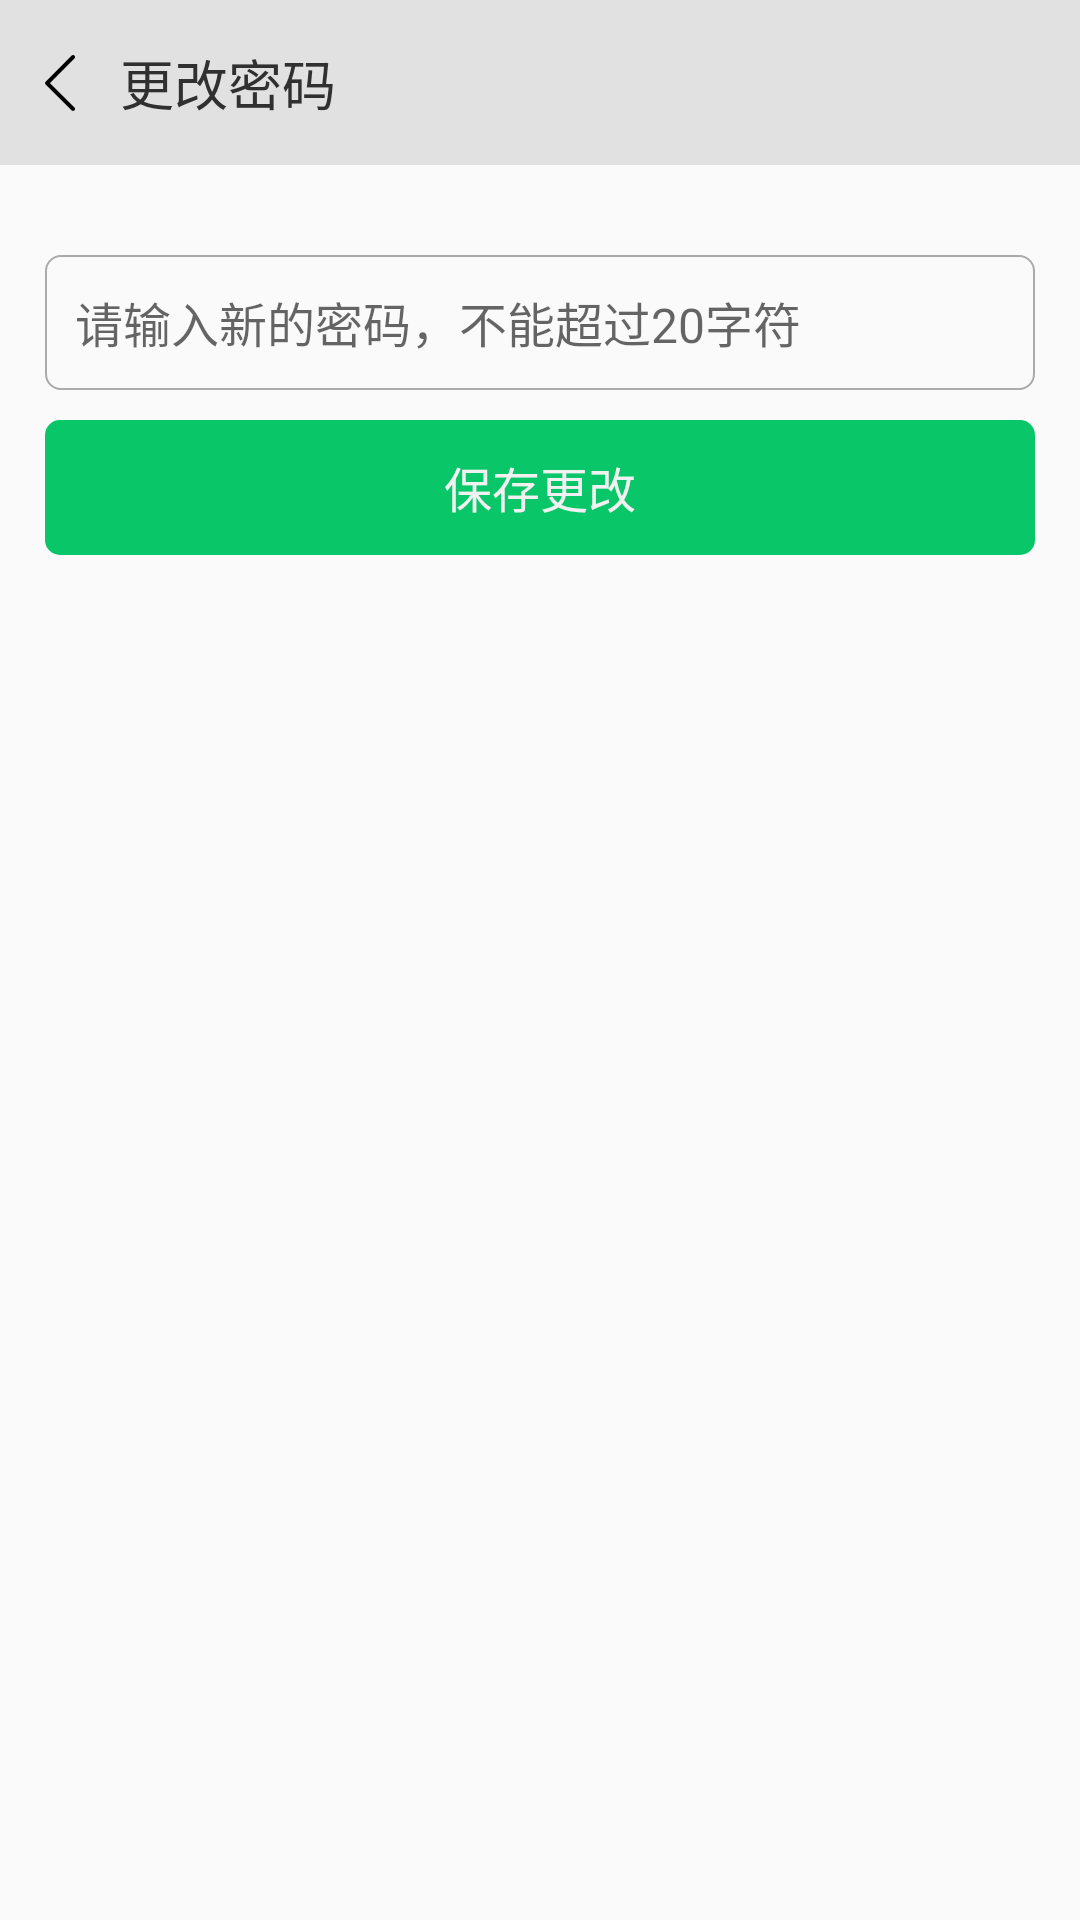

Where to tap for icons on this 1080 x 1920 app screen, as [x,y]:
back: [60,83]
